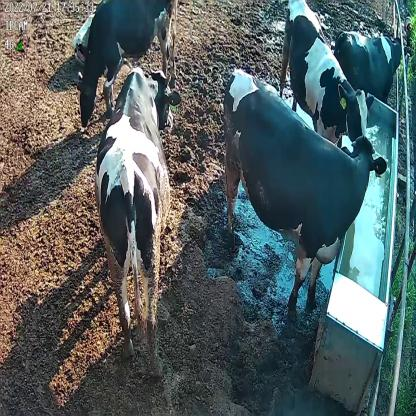cow: (222, 66, 388, 314), (93, 66, 179, 370), (280, 1, 375, 156), (77, 0, 179, 128), (335, 27, 404, 98)
